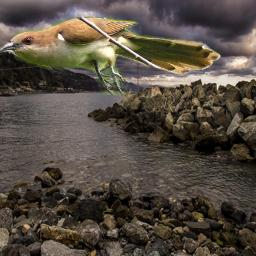Cuckoo: (0, 17, 222, 95)
